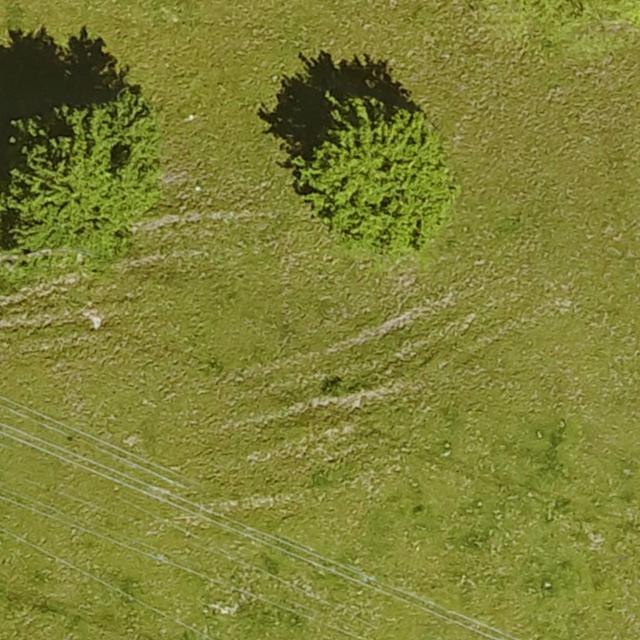tree: (5, 99, 159, 263), (301, 107, 457, 249)
